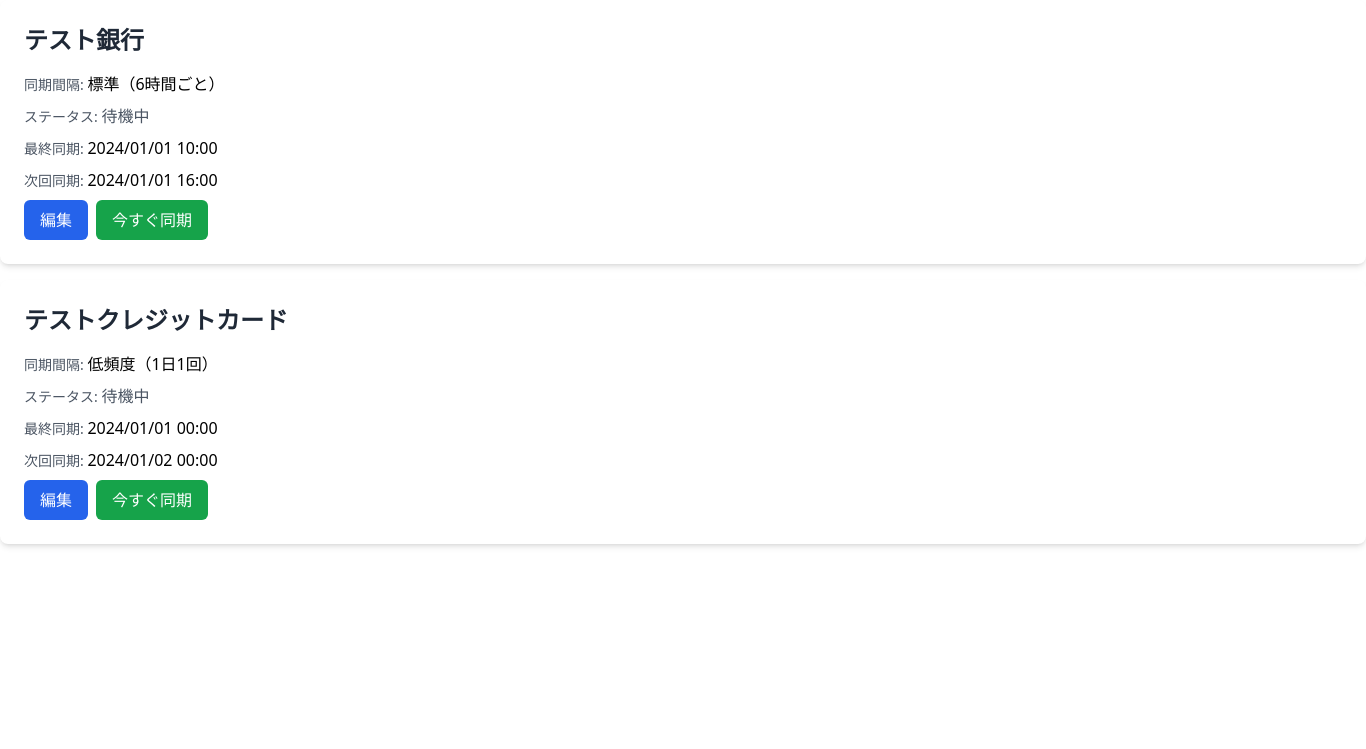
InstitutionSettingsTab › バリデーションエラーを表示する
The image size is (1366, 749).
Check: the heading "テスト銀行" is shown, box [24,23,144,56]
Note: 編集ボタンをクリック
Click the button "編集" below "2024/01/01 16:00".
click(56, 220)  # box [24,200,88,240]
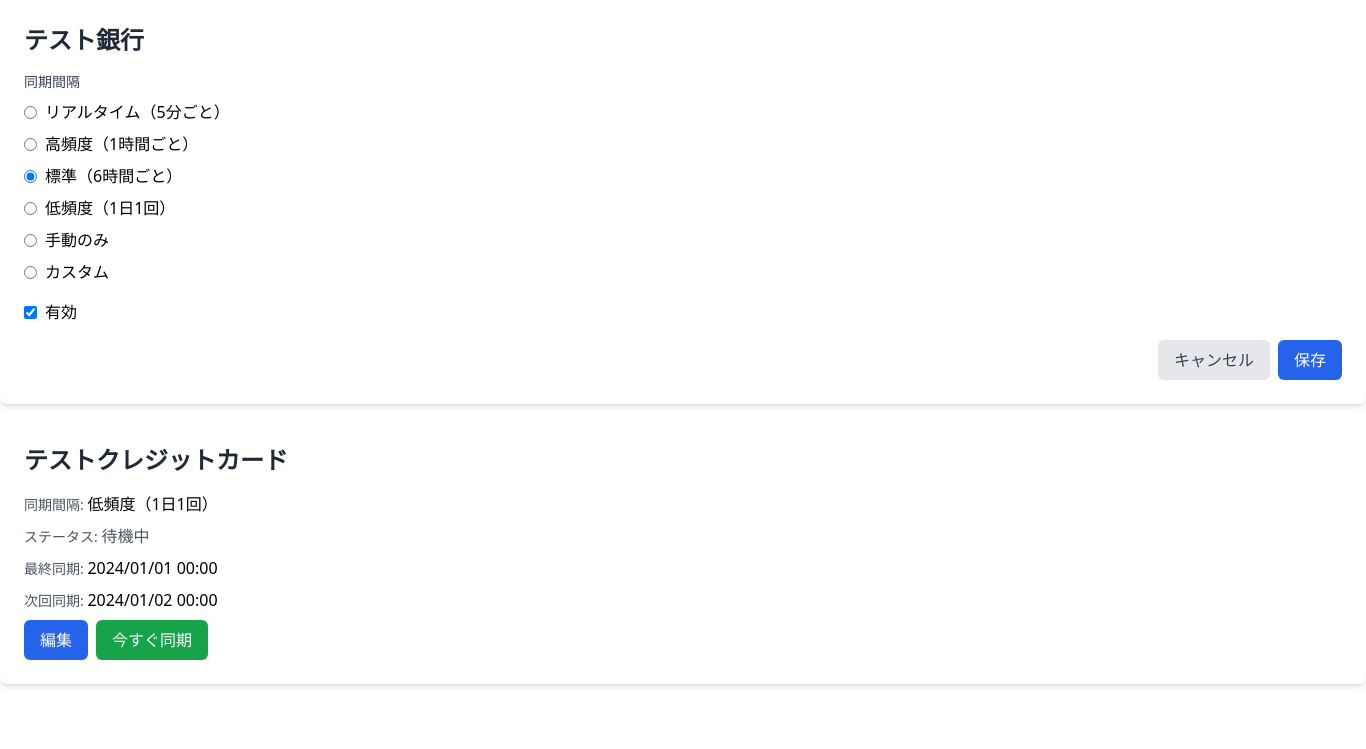
Check: the text "同期間隔" is shown, box [24,72,80,91]
Note: カスタム間隔に無効な値を設定
Click the radio button labelled "カスタム".
click(30, 272)  # box [24,266,37,278]
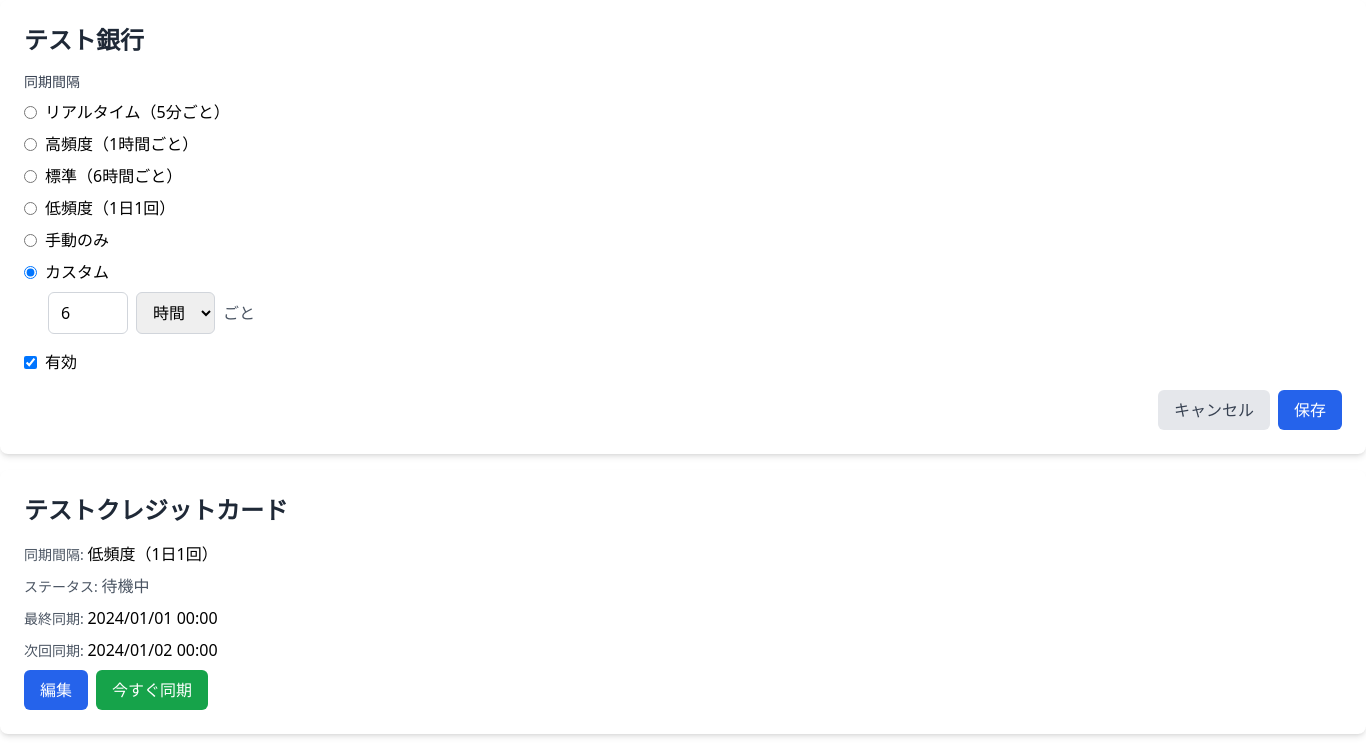
Replace the text in the number field showing "6" with "1" at coordinates (88, 313), box [48,292,128,334]
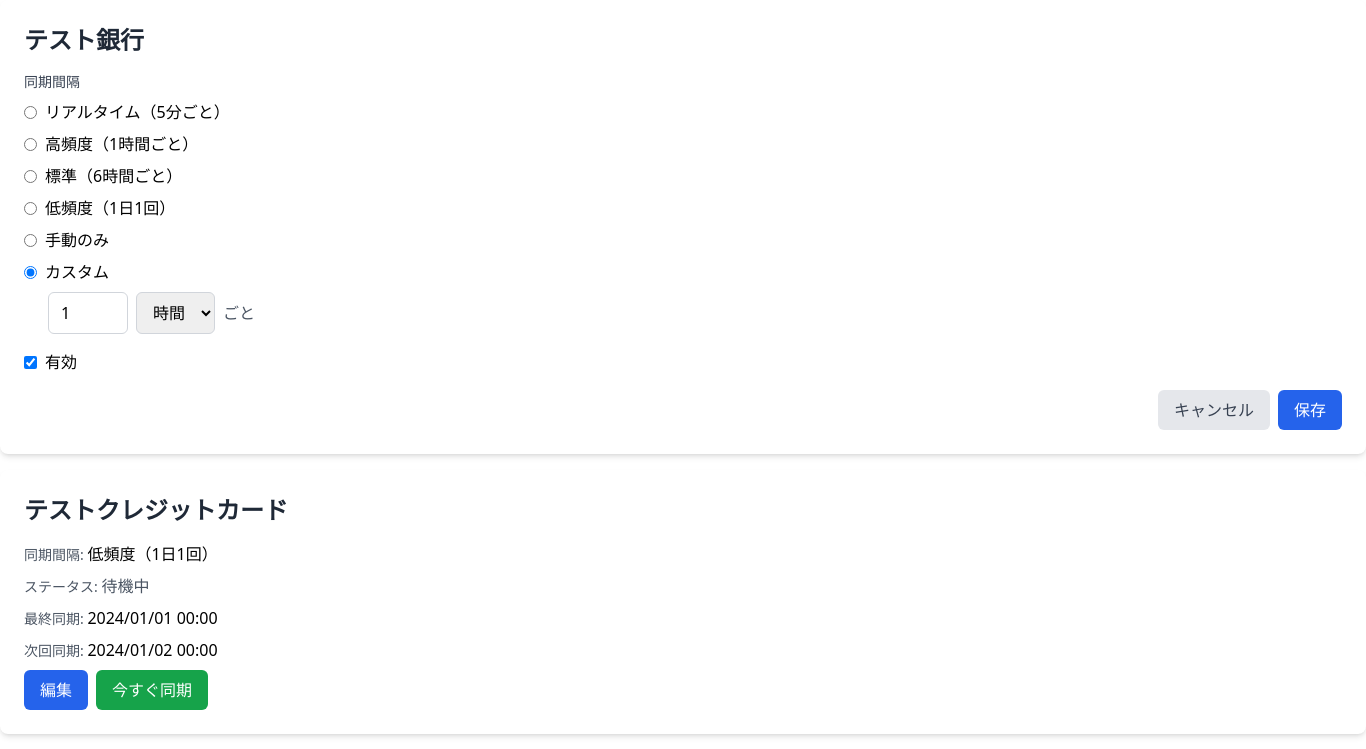
Note: 保存ボタンをクリック
Click the button "保存".
click(1310, 410)  # box [1278,390,1342,430]
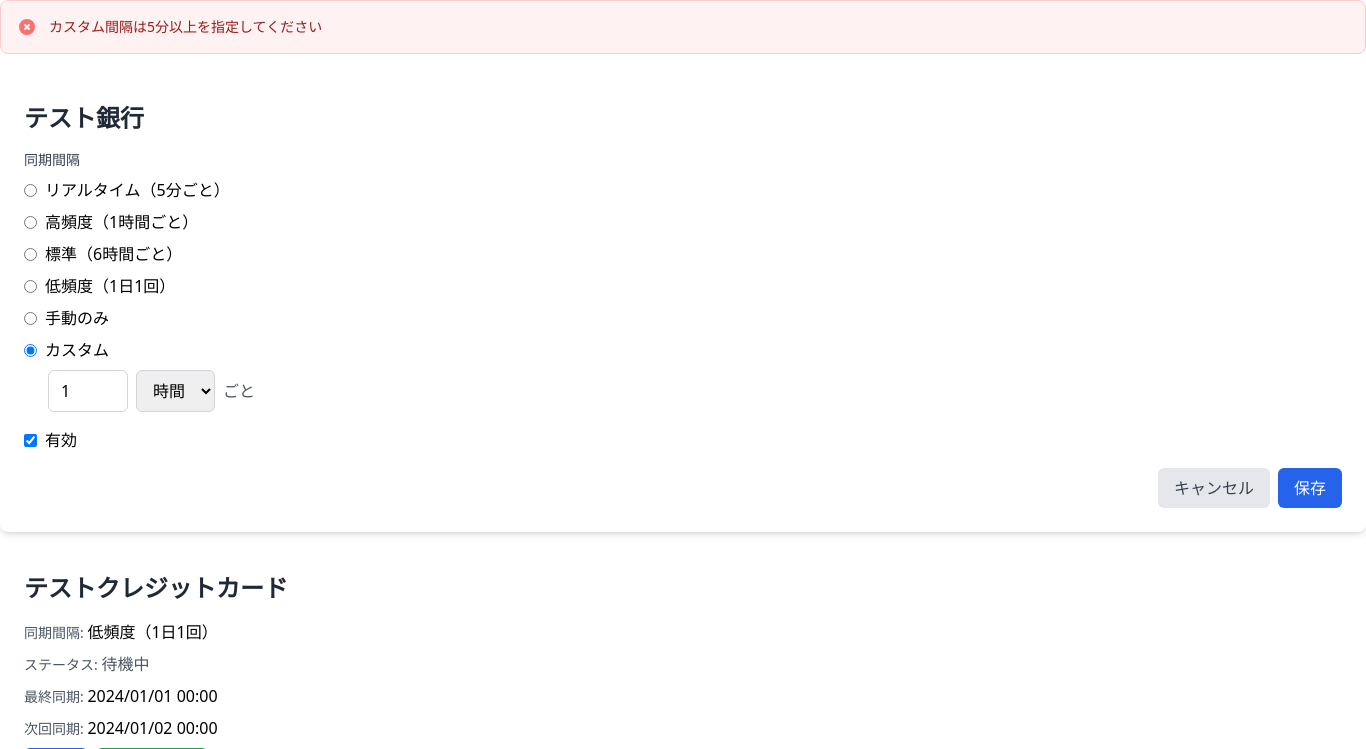
Check: the text "カスタム間隔は5分以上を指定してください" is shown, box [49,17,322,37]
